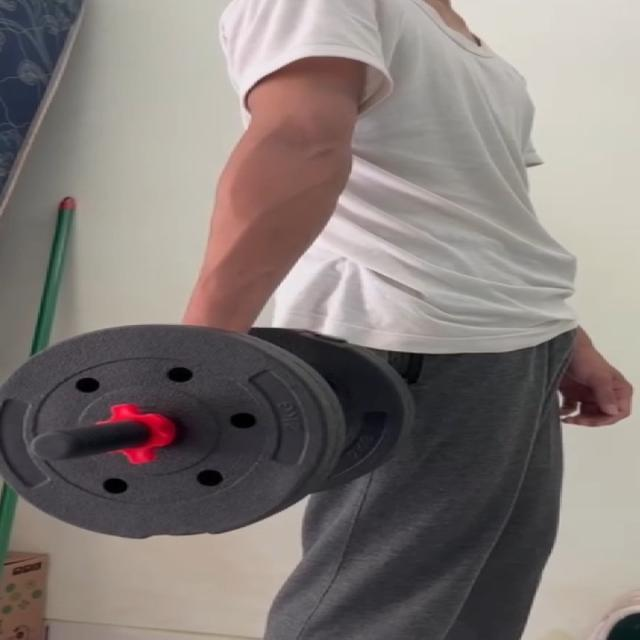dumbbell: (0, 325, 411, 542)
